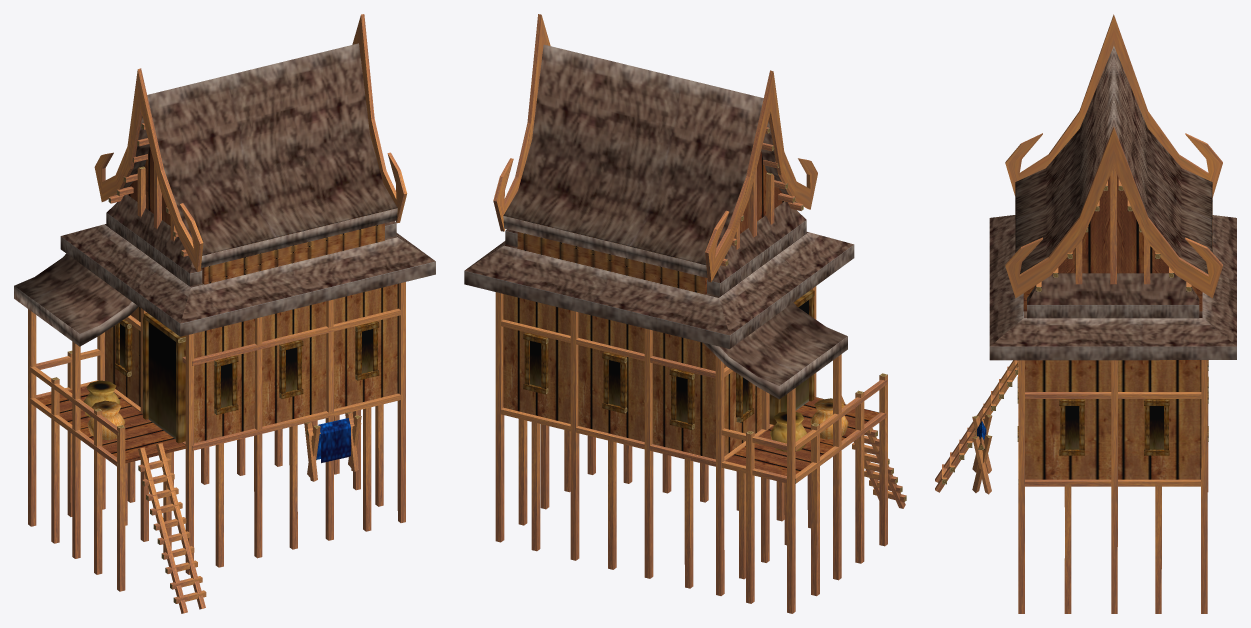
File: house_1.dae
The picture shows the model from 3 angles, left to right: view 1: azimuth 30°, elevation 25°; view 2: azimuth 150°, elevation 25°; view 3: azimuth 270°, elevation 25°; orthographic projection. The views are drawn at different scales.
Parts seen in each view (by area): view 1: house_1; view 2: house_1; view 3: house_1.
Boxes of the visible parts, x1,y1,x2,y2 form: house_1: (14, 14, 435, 613); house_1: (464, 14, 906, 613); house_1: (935, 14, 1236, 613).
Size of the model in its own units: 12.68 by 10.62 by 18.95.
